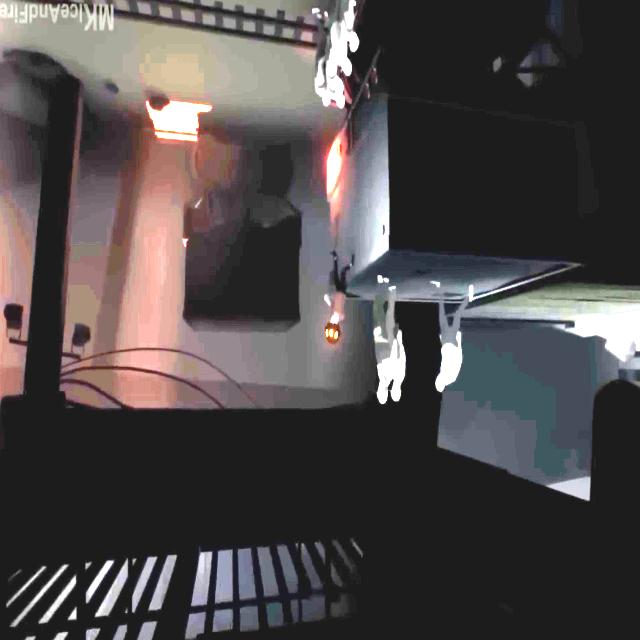boy: (324, 250, 352, 323)
zombie: (432, 281, 472, 391), (372, 274, 397, 404), (314, 26, 329, 106), (340, 0, 359, 52), (391, 332, 404, 401), (332, 51, 351, 75), (329, 74, 343, 97)
